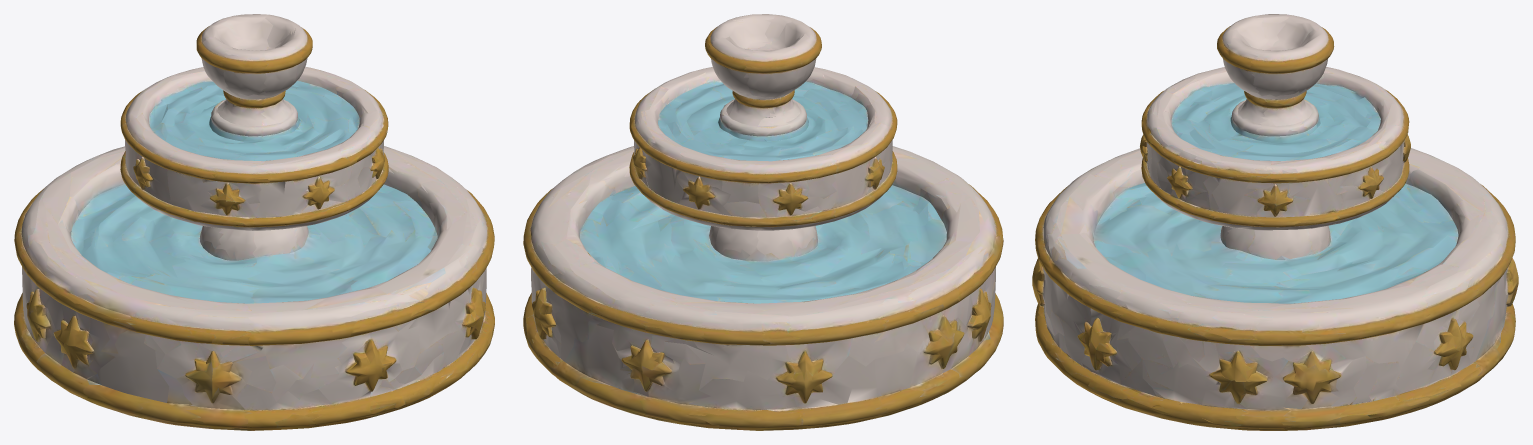
The model's file is fuente.glb.
3 views of the same model, side by side, from view 1: azimuth 30°, elevation 25°; view 2: azimuth 150°, elevation 25°; view 3: azimuth 270°, elevation 25° (orthographic).
Visible parts, largest first — view 1: output_unwrapped; view 2: output_unwrapped; view 3: output_unwrapped.
Boxes of the visible parts, box(x1,y1,x2,y2) form: output_unwrapped: box(14, 14, 494, 430); output_unwrapped: box(523, 14, 1003, 430); output_unwrapped: box(1032, 14, 1518, 430).
Size of the model in its own units: 1.88 by 1.29 by 1.9.
Materials: 1 (1 with a texture image).
